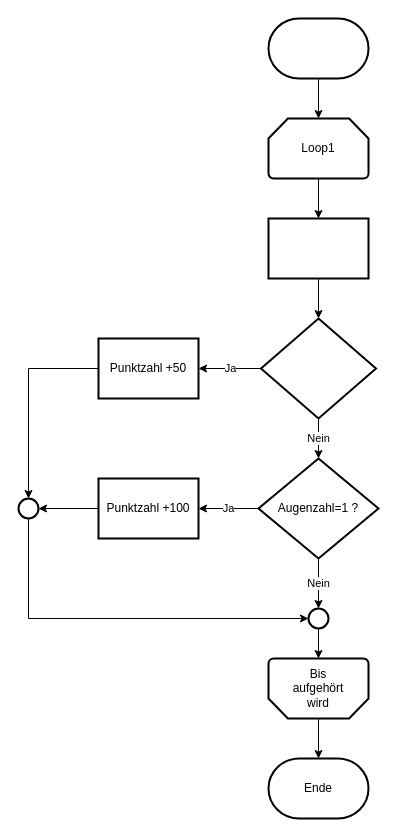
The diagram is 396 pixels wide and 836 high, and some of its shapes have lost their labels. Each missing label, with the centre of its shape:
Augenzahl=5 ?: (318,368)
Start: (318,48)
Würfel wird gewürfelt: (318,248)
